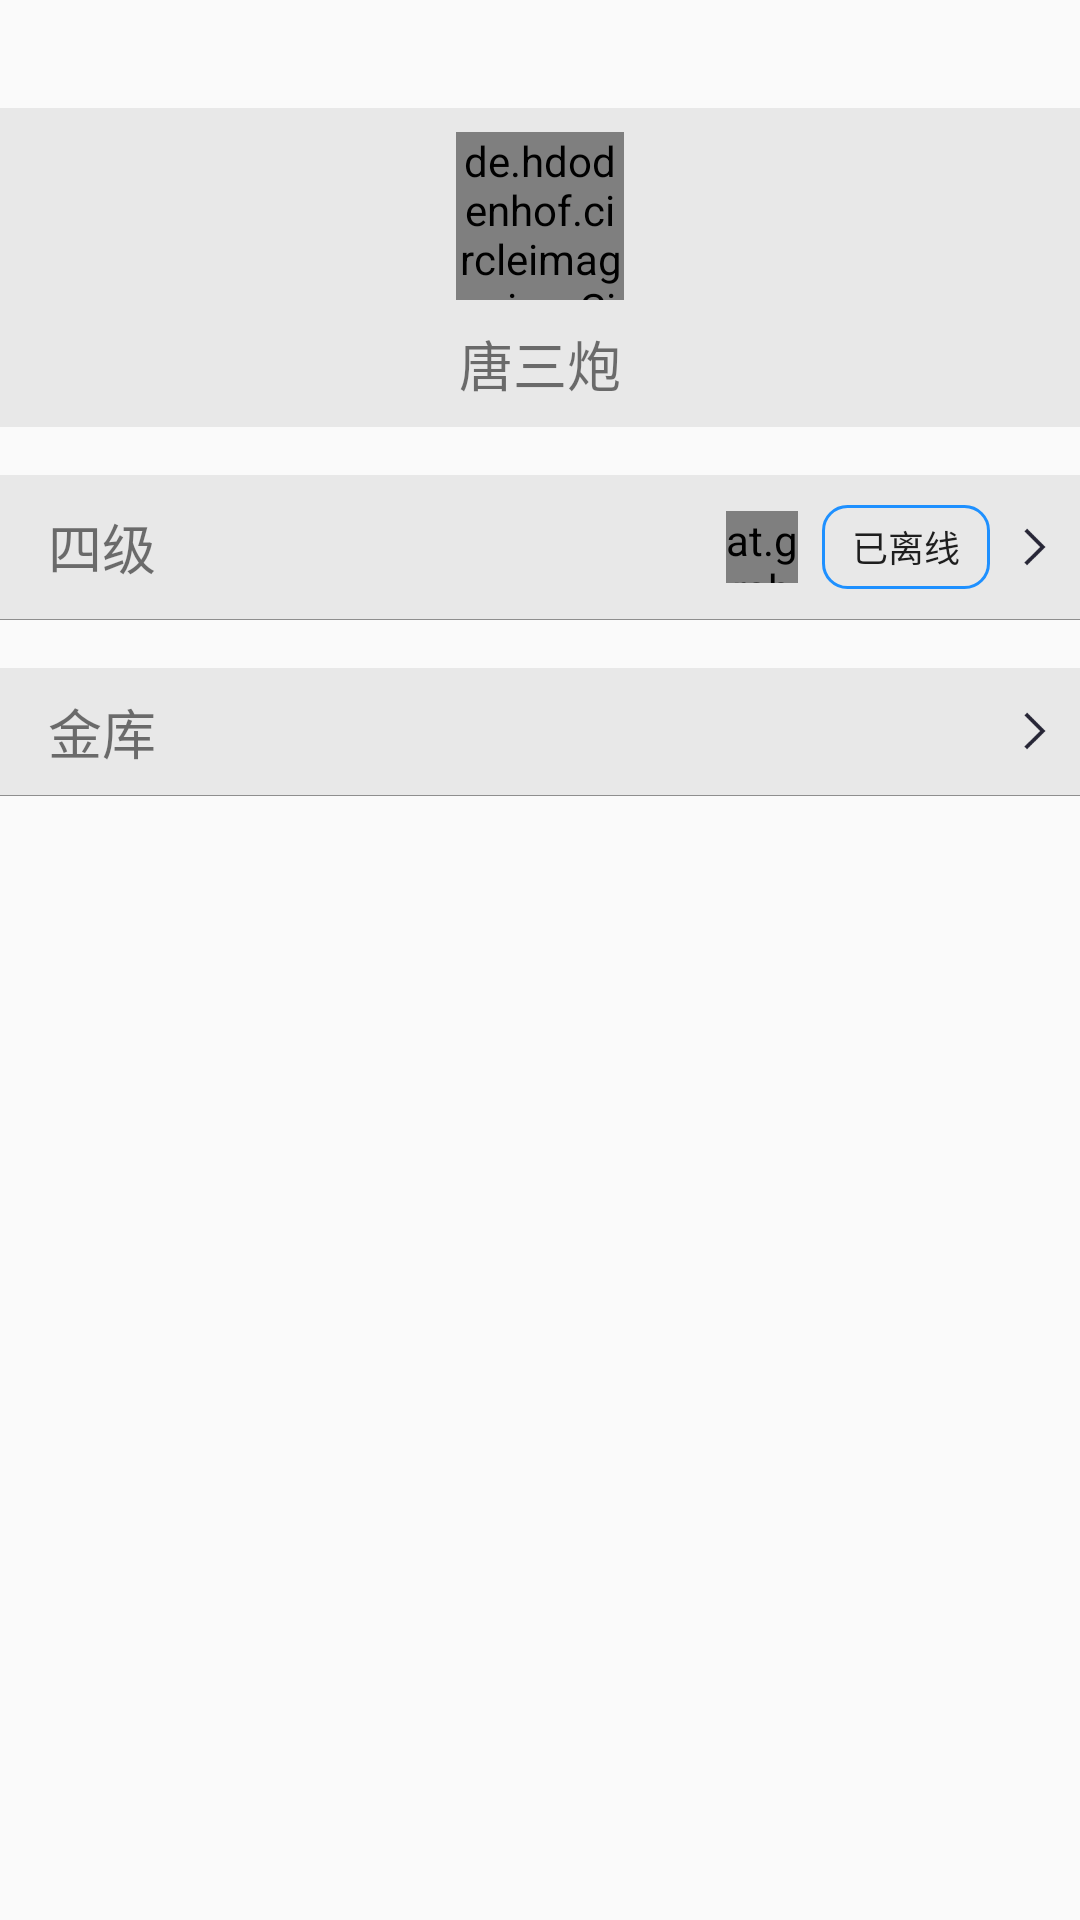

Icon click points for this 1080 × 1920 phone screenshot, format (x,y):
arrow: (1035,547), (1035,731)
